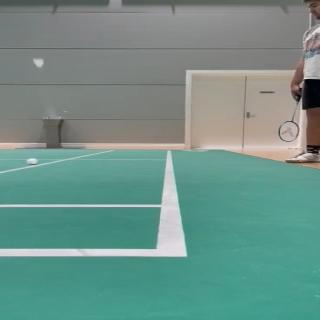Shuttle: (32, 58, 45, 68), (27, 158, 38, 165)
